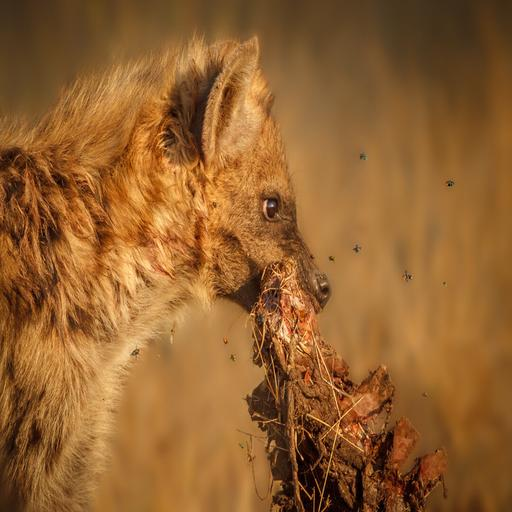Hyena: (0, 30, 340, 512)
